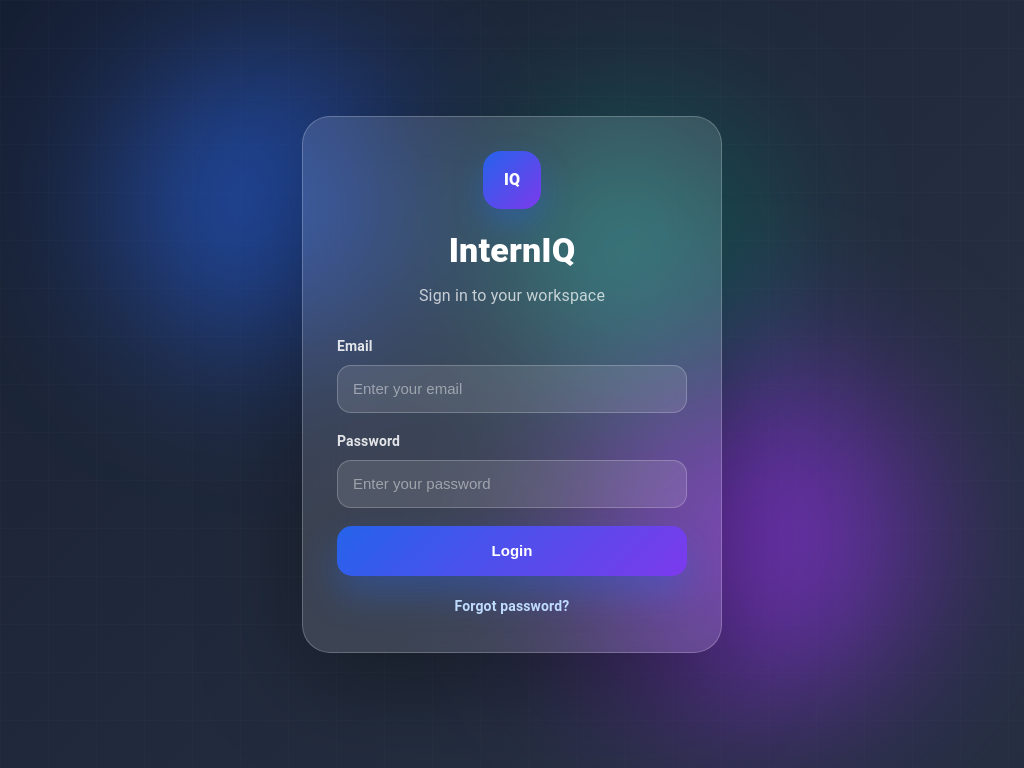
it: Login page › shows validation errors for invalid login input
Step 1. Type "not-an-email" into the field labelled "Email" → [512, 388], box [337, 364, 687, 412]
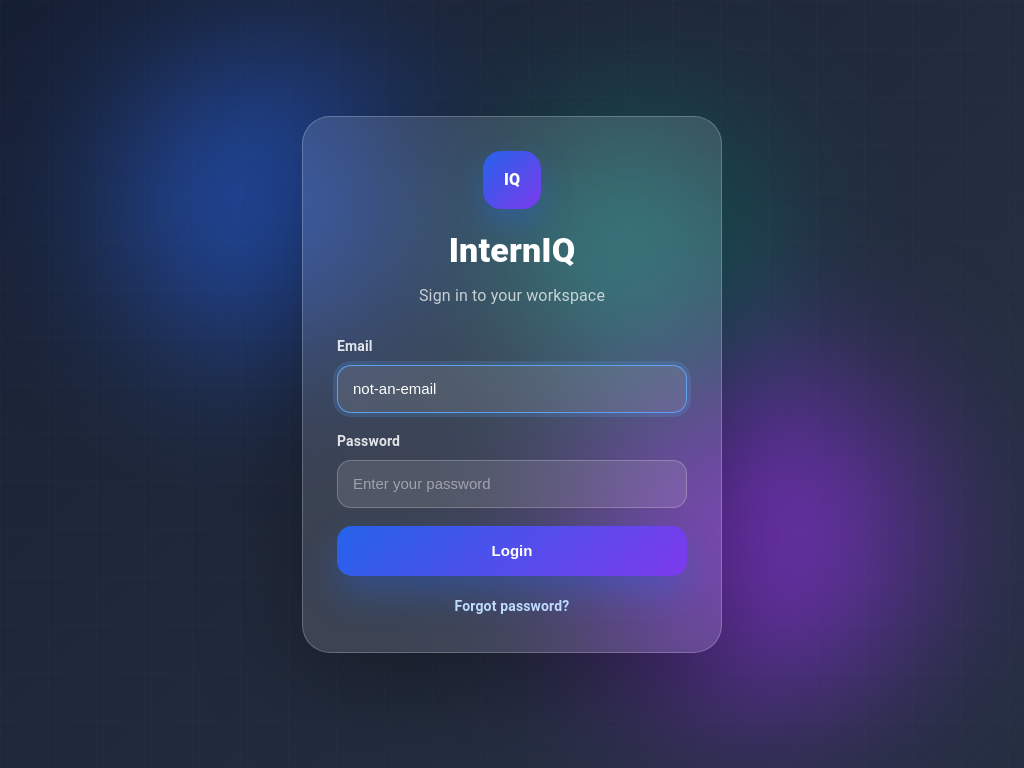
Step 2. Click the button "Login" → [512, 550], box [337, 526, 687, 576]
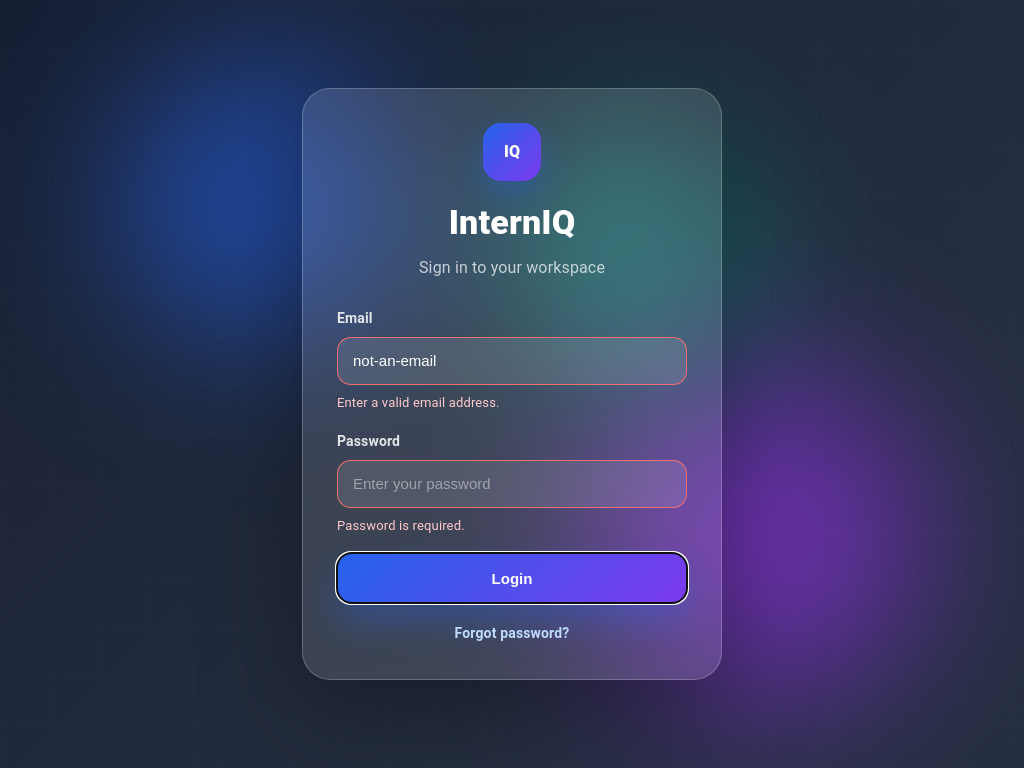
Check: the text "Enter a valid email address." is shown, box [337, 395, 500, 410]
Check: the text "Password is required." is shown, box [337, 518, 465, 532]
